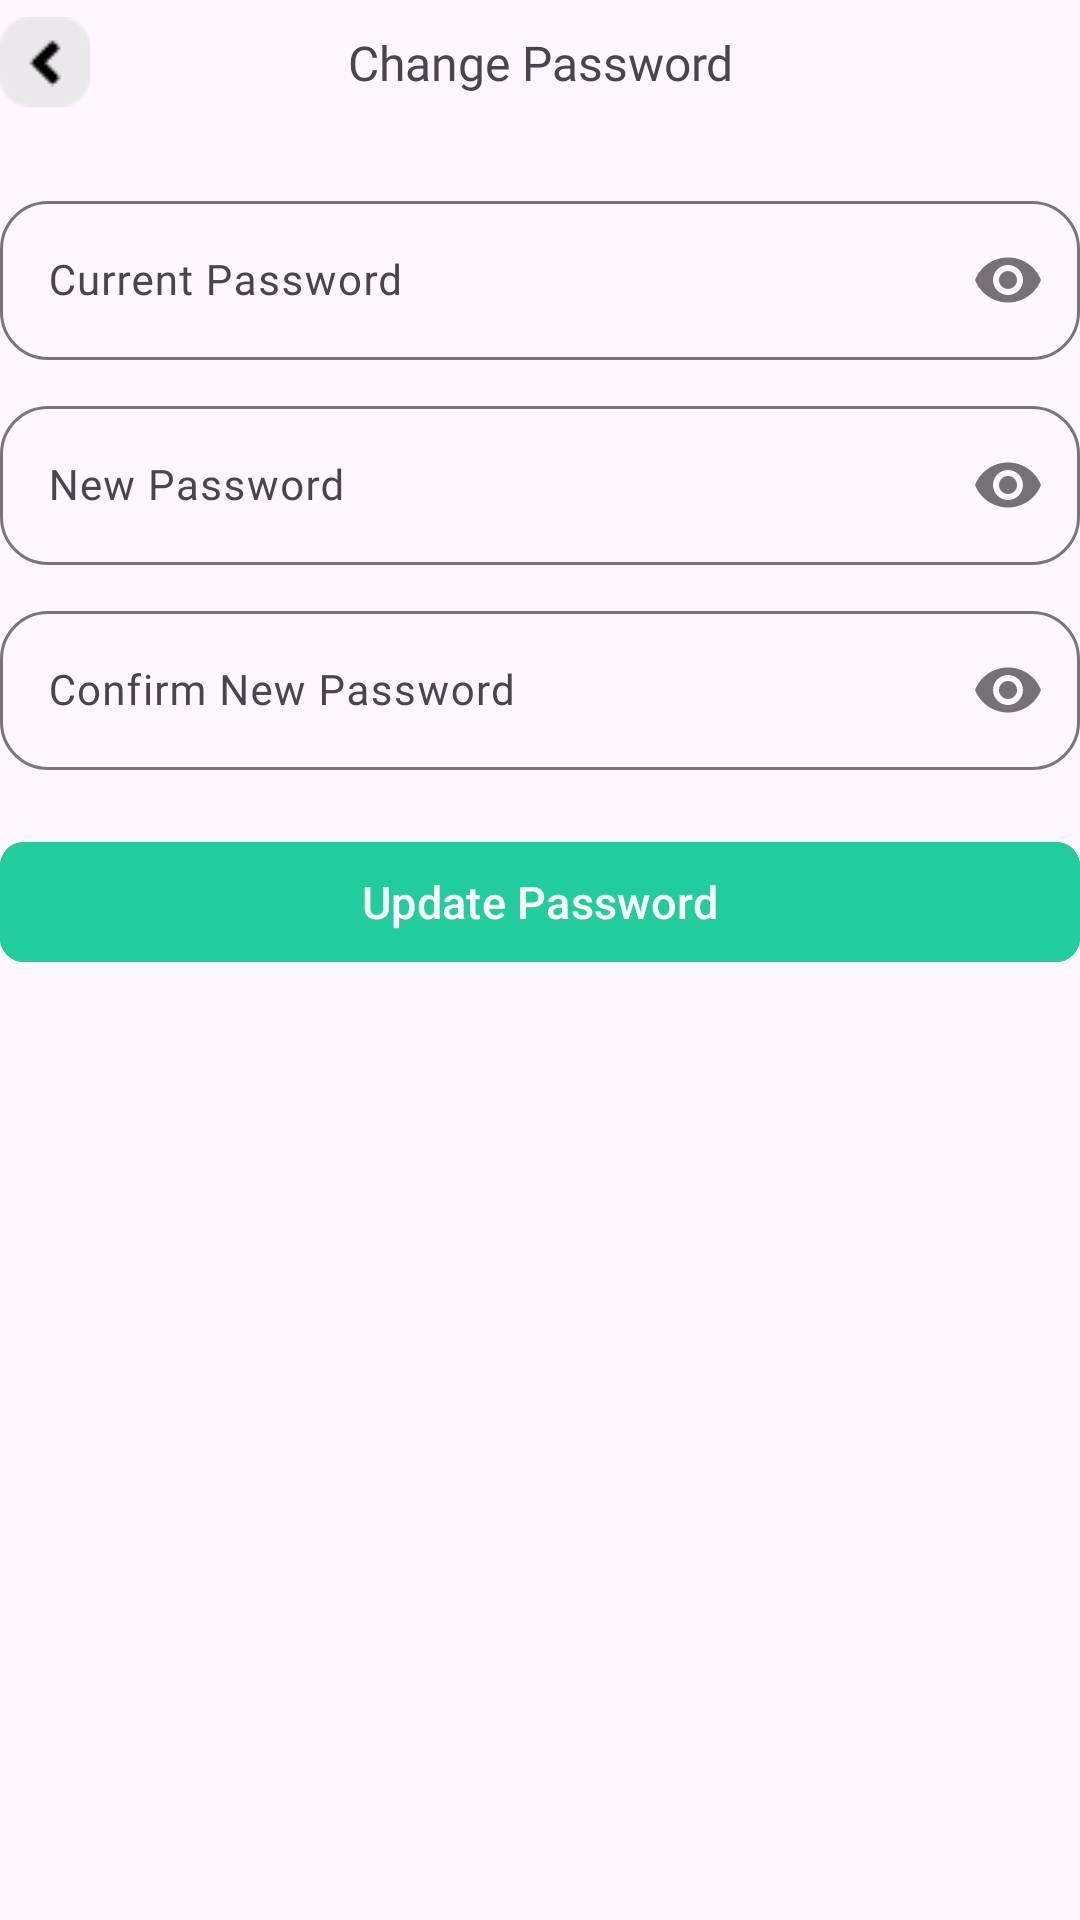

Screen size 1080 x 1920. Icon name, then its center in pixels as [x,y]:
back: [45,63]
